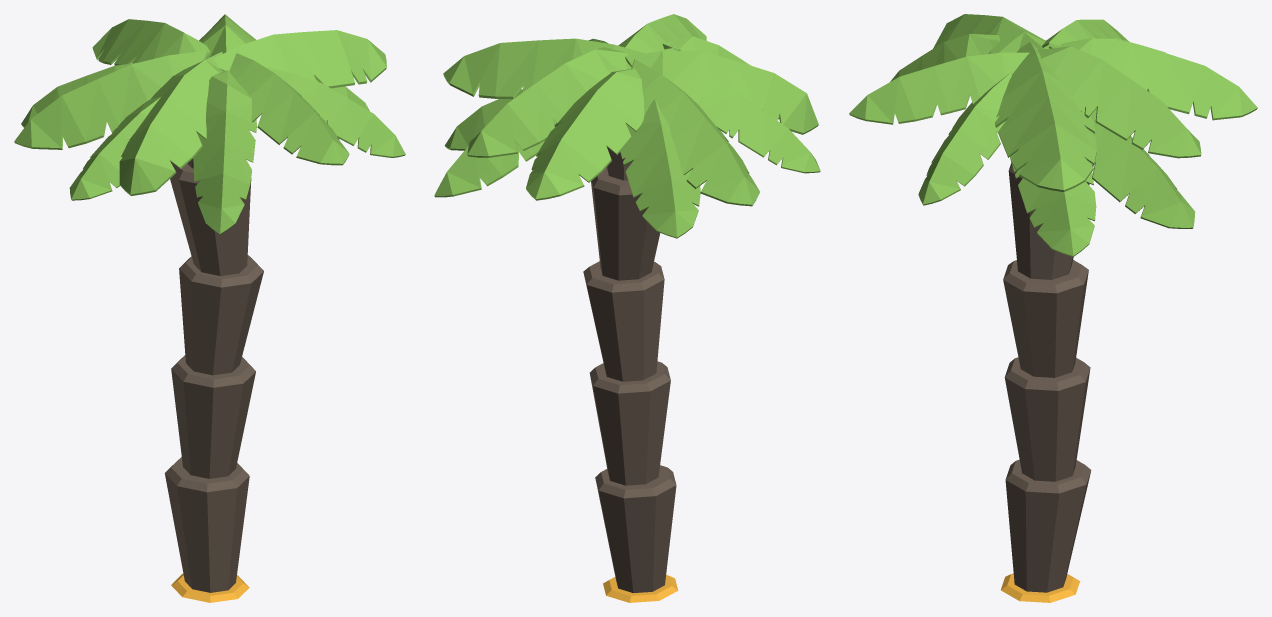
Rendered from desert_tree_1.fbx.
3 views of the same model, side by side, from view 1: azimuth 30°, elevation 25°; view 2: azimuth 150°, elevation 25°; view 3: azimuth 270°, elevation 25° (orthographic). The views are drawn at different scales.
Parts seen in each view (by area): view 1: Plane.004; view 2: Plane.004; view 3: Plane.004.
Part boxes in pixels (x1,y1,x2,y2): Plane.004: [14, 14, 405, 602]; Plane.004: [434, 14, 820, 602]; Plane.004: [849, 14, 1257, 602].
Bounding box in the file's own units: 80 × 120 × 80.
